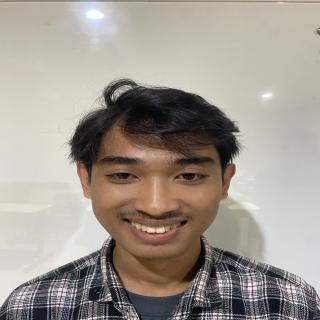Senang: (84, 101, 233, 261)
